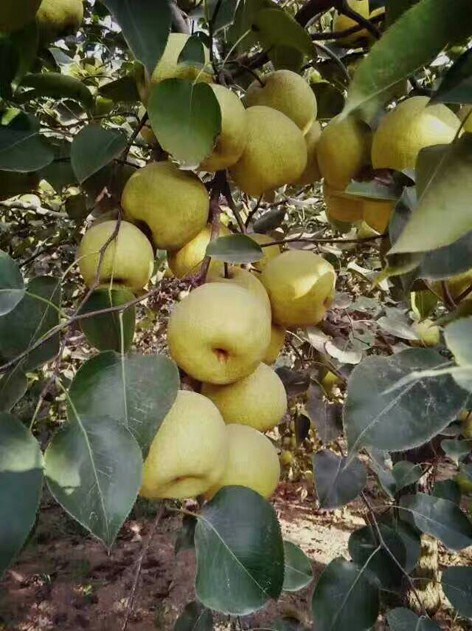pear: (120, 387, 225, 499), (167, 281, 270, 387), (374, 94, 462, 194), (123, 161, 210, 248), (228, 104, 310, 195), (197, 423, 279, 505), (202, 357, 288, 433), (181, 81, 249, 170), (77, 219, 154, 294), (260, 249, 334, 324), (317, 109, 380, 188), (245, 70, 316, 139), (135, 31, 205, 98), (165, 220, 232, 283), (323, 175, 370, 224), (36, 1, 86, 41)
